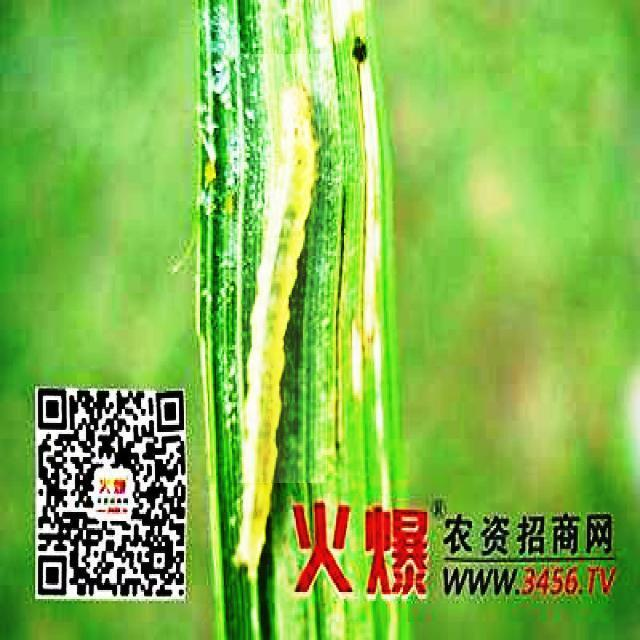leaf-folder: (238, 54, 328, 483)
